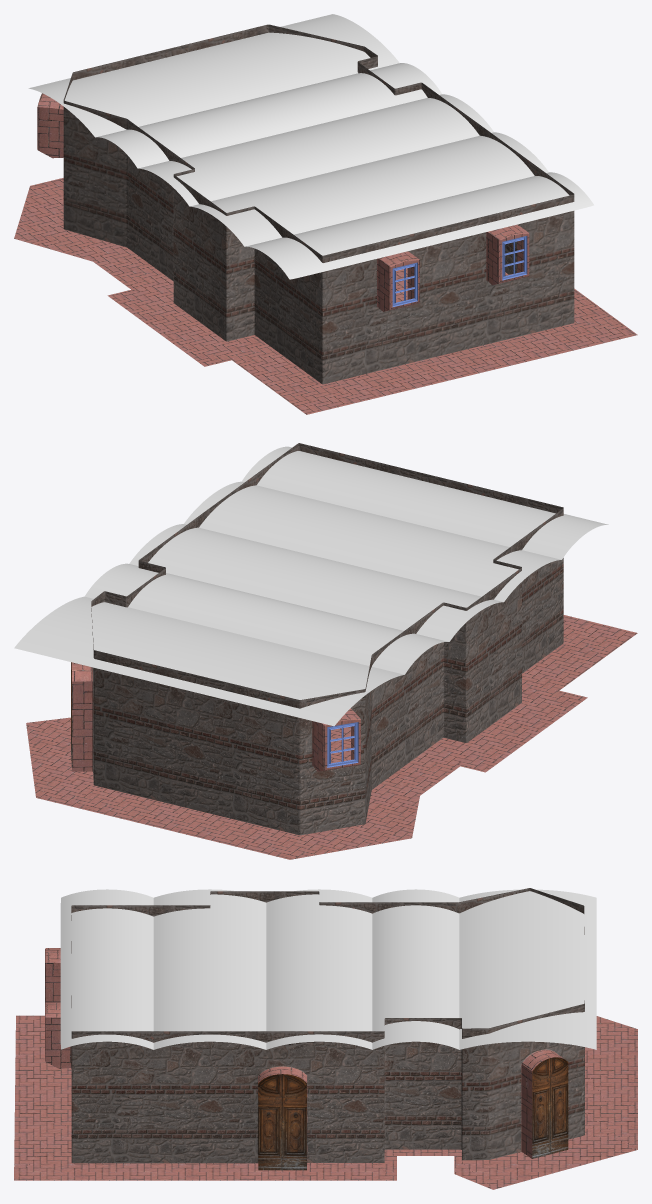
Rendered from Místnost č.2.fbx.
The picture shows the model from 3 angles, top to bottom: view 1: azimuth 30°, elevation 25°; view 2: azimuth 150°, elevation 25°; view 3: azimuth 270°, elevation 25°; orthographic projection. The views are drawn at different scales.
Parts seen in each view (by area): view 1: Klenby-strop, Jednostěna.024, Podlaha-místnosti č.2; view 2: Klenby-strop, Jednostěna.024, Podlaha-místnosti č.2; view 3: Klenby-strop, Jednostěna.024, Podlaha-místnosti č.2.
Boxes of the visible parts, bbox=[...] form: Klenby-strop: bbox=[28, 14, 593, 279]; Jednostěna.024: bbox=[37, 24, 574, 384]; Podlaha-místnosti č.2: bbox=[14, 178, 637, 414]; Klenby-strop: bbox=[14, 446, 608, 726]; Jednostěna.024: bbox=[71, 443, 563, 835]; Podlaha-místnosti č.2: bbox=[26, 615, 637, 859]; Klenby-strop: bbox=[60, 889, 596, 1049]; Jednostěna.024: bbox=[45, 888, 584, 1170]; Podlaha-místnosti č.2: bbox=[14, 1015, 637, 1189].
Size of the model in its own units: 863 by 274 by 1174.
